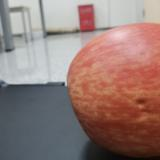apple: (67, 23, 160, 153)
